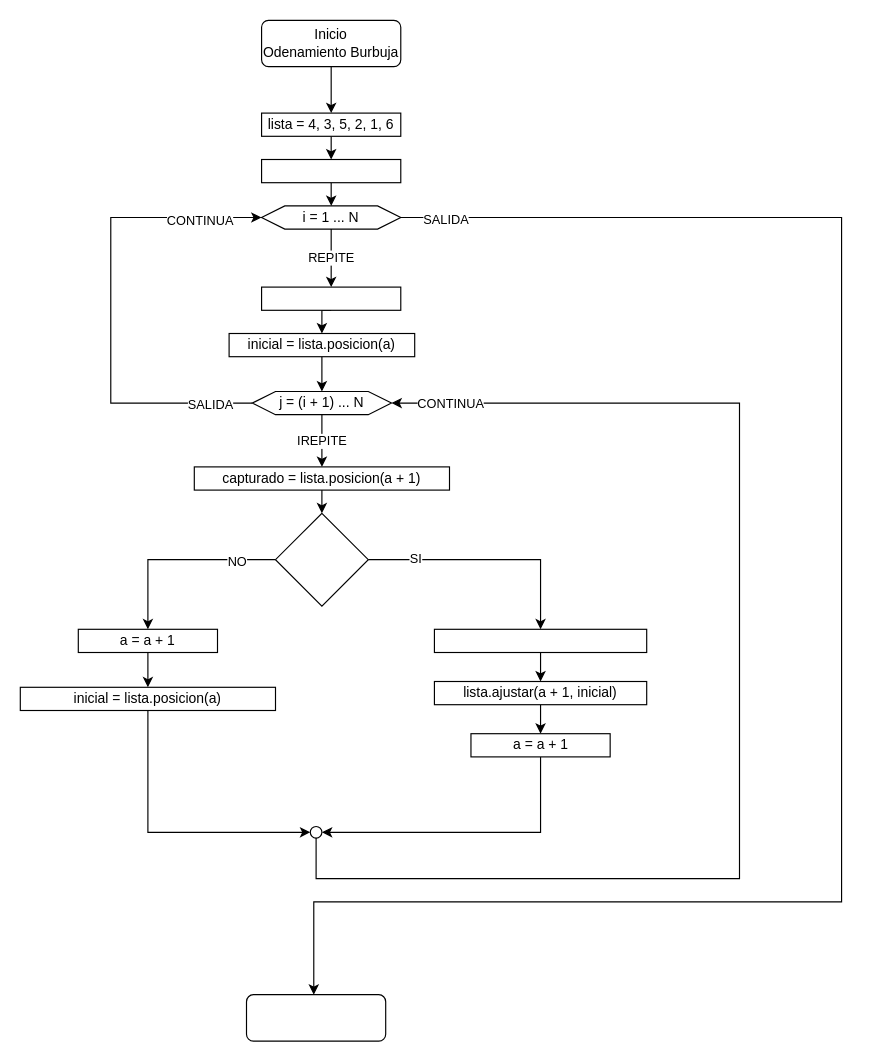
Some shapes in this 871 by 1063 pixel diagram are drawn without their labels. The shapes that lost their labels are listed below. From the top down, each one's centre as x and y in pixels, then its label:
[330,170]: N = lista.tamaño
[330,298]: a = 0
[321,559]: inicial > capturado
[540,640]: lista.ajustar(a, capturado)
[315,1017]: Fin Ordenamiento Burbuja
